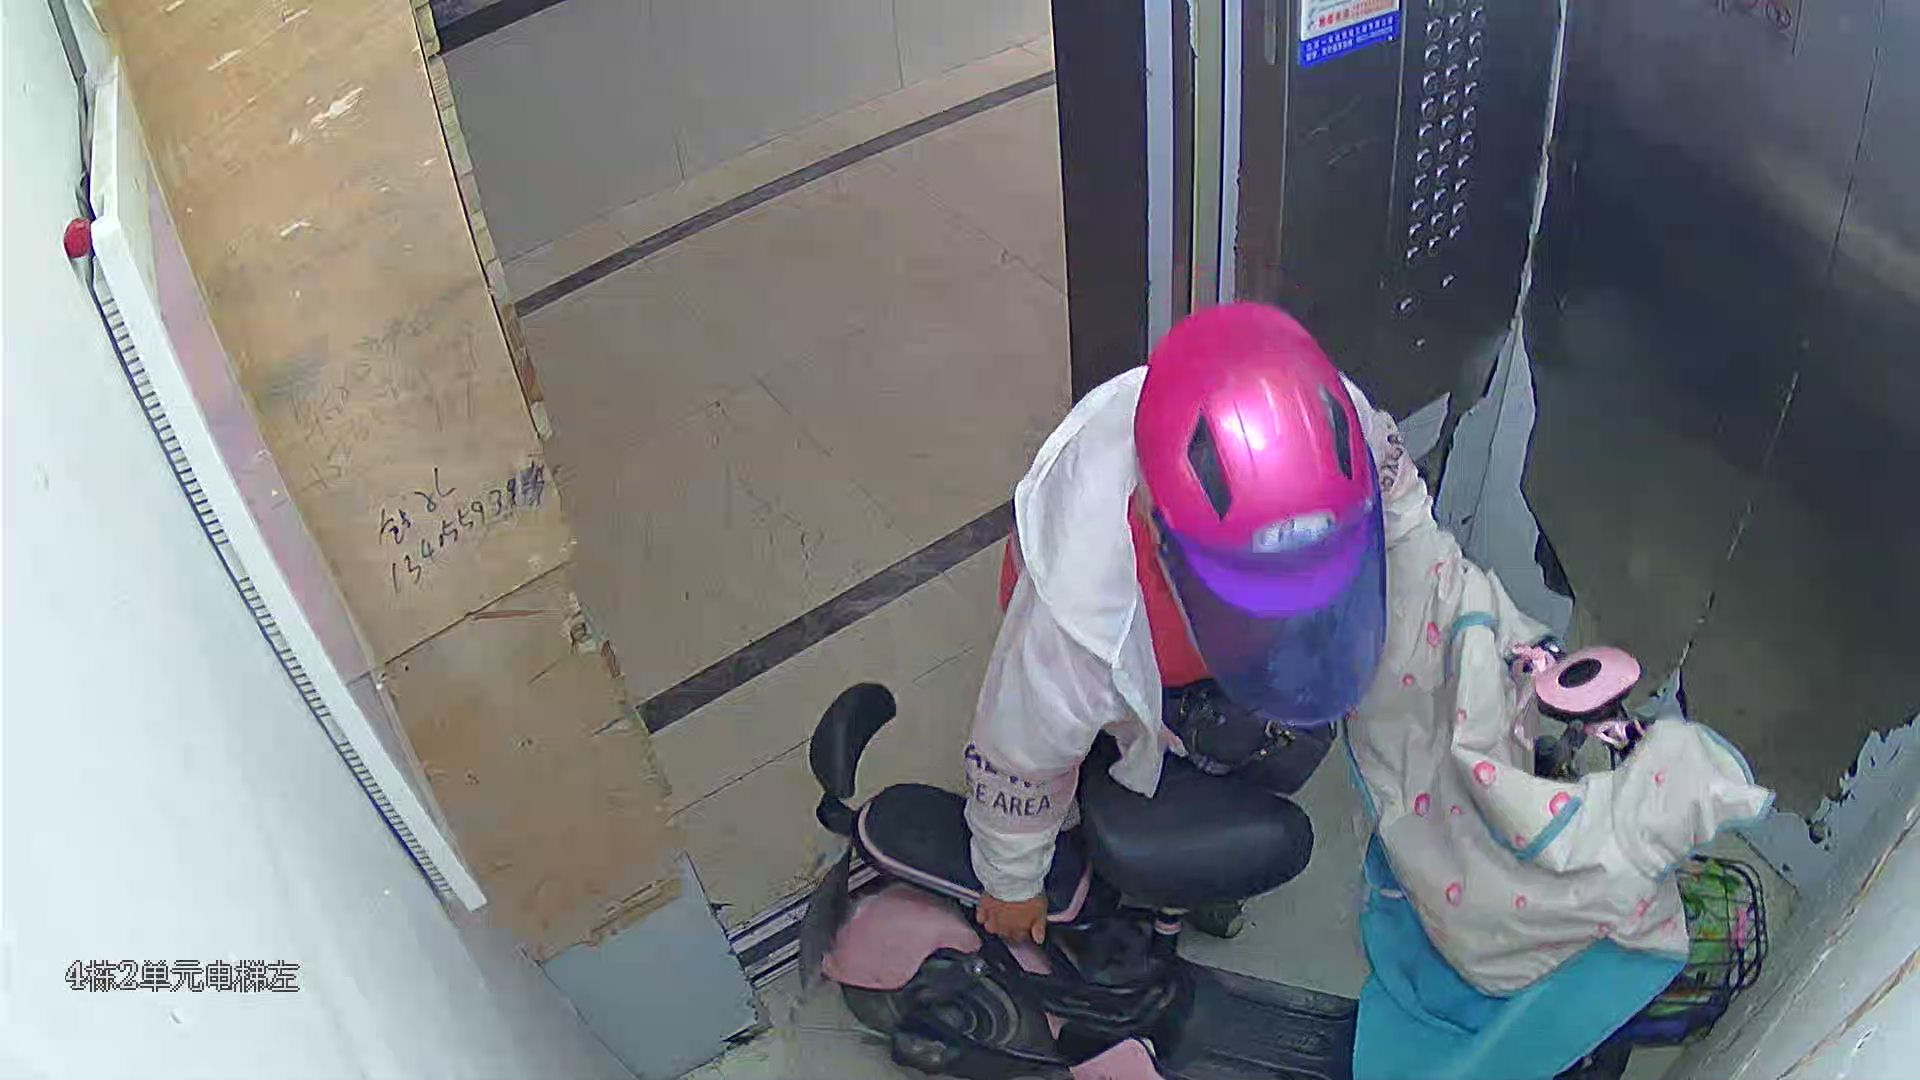Electric-bicycle: (827, 649, 1771, 1080)
